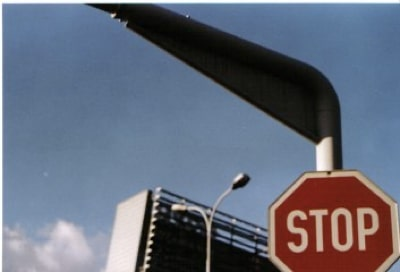StopSign: (266, 169, 400, 272)
